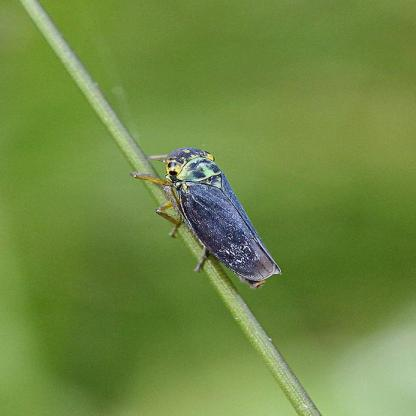Green-Leafhopper: (122, 138, 276, 290)
